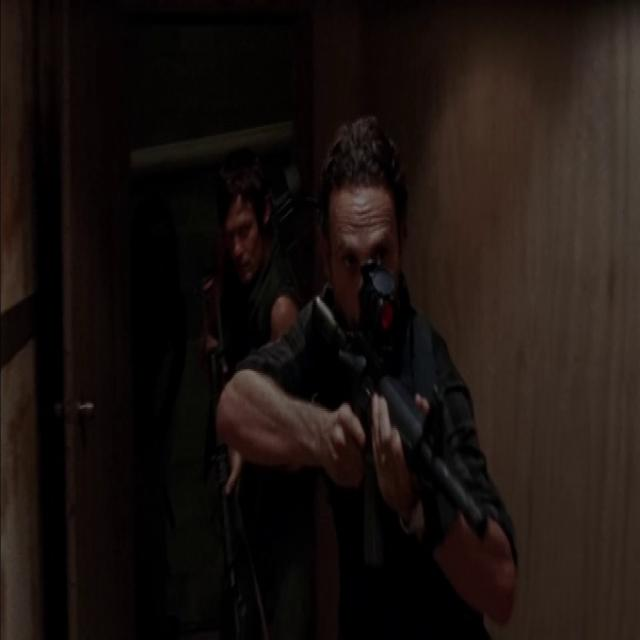rifle: (303, 261, 496, 556)
